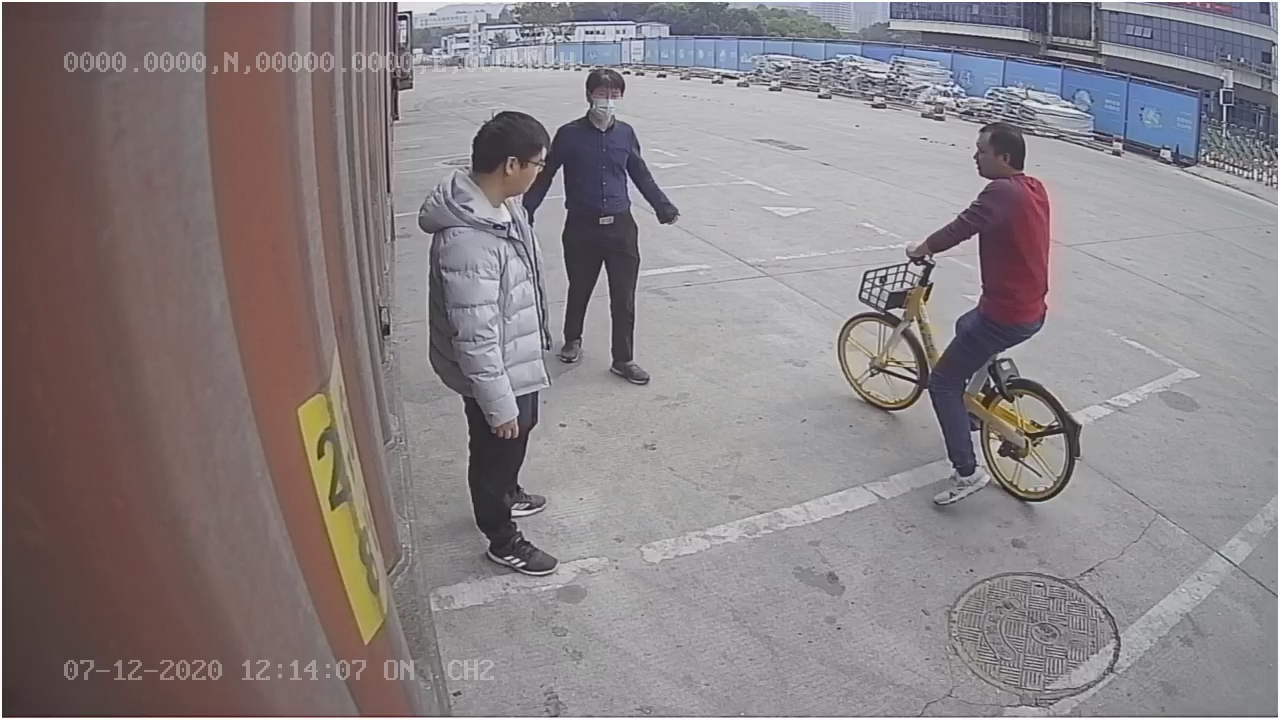person: (421, 104, 563, 574)
